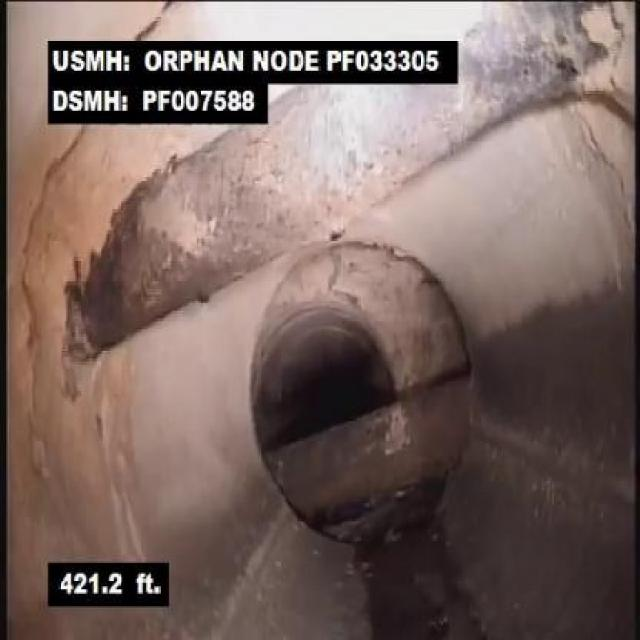Utility intrusion: (70, 126, 252, 368), (297, 5, 600, 138), (258, 362, 480, 536)
